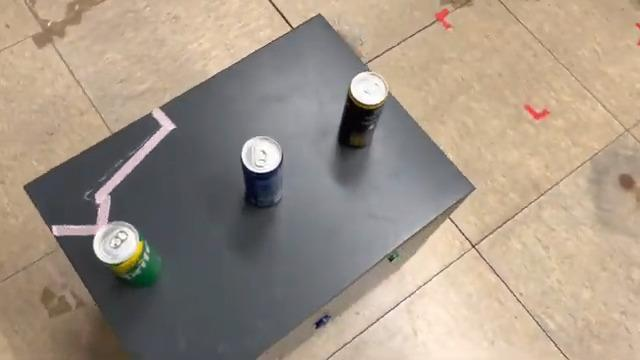OranSoda: (332, 69, 390, 155)
Pepsi: (237, 132, 287, 212)
Sprite: (90, 219, 164, 293)
